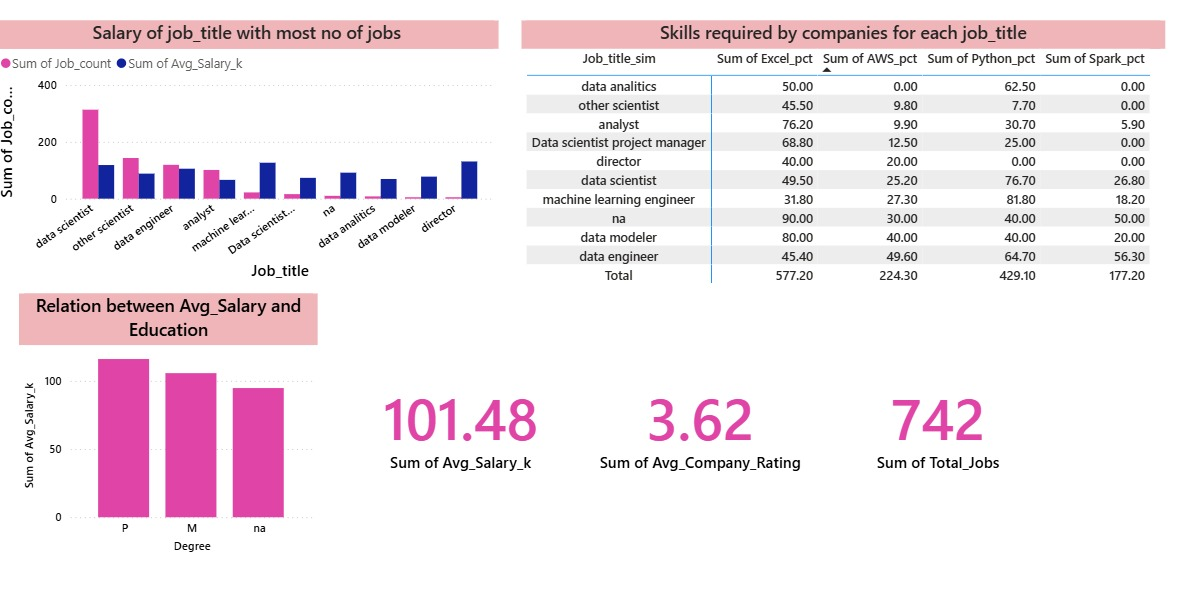

What the dashboard file says about the page in this screenshot:
{"tool":"powerbi","page":{"name":"Page 2","canvas":[1280,720],"ordinal":1},"visuals":[{"type":"clusteredColumnChart","title":"Salary of job_title with most no of jobs","fields":{"Category":["task_7 sal of job titles.Job_title"],"Y":["Sum(task_7 sal of job titles.Job_count)","Sum(task_7 sal of job titles.Avg_Salary_k)"]},"box":[0,32.9,533.8,279.9],"z":0},{"type":"pivotTable","title":"Skills required by companies for each job_title","fields":{"Rows":["task_8 skills req by com.Job_title_sim"],"Values":["Sum(task_8 skills req by com.Excel_pct)","Sum(task_8 skills req by com.AWS_pct)","Sum(task_8 skills req by com.Python_pct)","Sum(task_8 skills req by com.Spark_pct)"]},"box":[558.5,32.9,682,271.7],"z":1000},{"type":"clusteredColumnChart","title":"Relation between Avg_Salary and Education","fields":{"Category":["task_9 rel bw avg sal and edu.Degree"],"Y":["Sum(task_9 rel bw avg sal and edu.Avg_Salary_k)"]},"box":[24.7,322.5,317,279.9],"z":2000},{"type":"card","fields":{"Values":["Sum(task_10 analyse all features & insights.Avg_Salary_k)"]},"box":[384.2,322.5,216.8,279.9],"z":3000},{"type":"card","fields":{"Values":["Sum(task_10 analyse all features & insights.Avg_Company_Rating)"]},"box":[627.1,322.5,241.5,279.9],"z":4000},{"type":"card","fields":{"Values":["Sum(task_10 analyse all features & insights.Total_Jobs)"]},"box":[889.2,322.5,367.8,279.9],"z":5000}]}

Visuals, with their boxes on the page's 1280x720 design canvas (x1, y1, x2, y2). These are canvas units, not pixel positions in the 1195x615 screenshot, which may show the page scaled, cropped or inside an application window:
"Salary of job_title with most no of jobs" clusteredColumnChart: x1=0, y1=33, x2=534, y2=313
"Skills required by companies for each job_title" pivotTable: x1=558, y1=33, x2=1240, y2=305
"Relation between Avg_Salary and Education" clusteredColumnChart: x1=25, y1=322, x2=342, y2=602
card - Sum(task_10 analyse all features & insights.Avg_Salary_k): x1=384, y1=322, x2=601, y2=602
card - Sum(task_10 analyse all features & insights.Avg_Company_Rating): x1=627, y1=322, x2=869, y2=602
card - Sum(task_10 analyse all features & insights.Total_Jobs): x1=889, y1=322, x2=1257, y2=602
